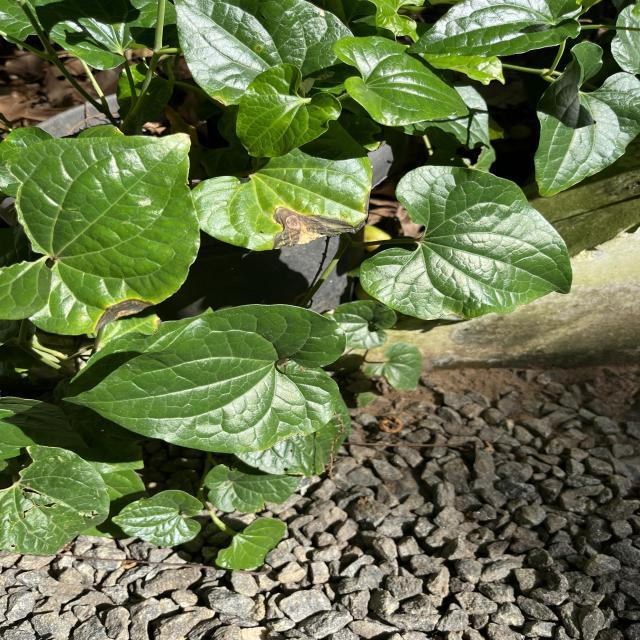Piper longum: (58, 301, 350, 456), (358, 164, 576, 322), (531, 39, 640, 198), (331, 34, 474, 130), (402, 0, 586, 61), (232, 62, 344, 160)
